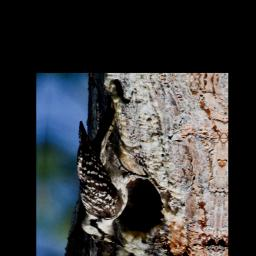Woodpecker: (64, 91, 156, 252)
